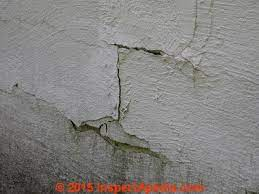stairstep_crack: (65, 41, 166, 158)
